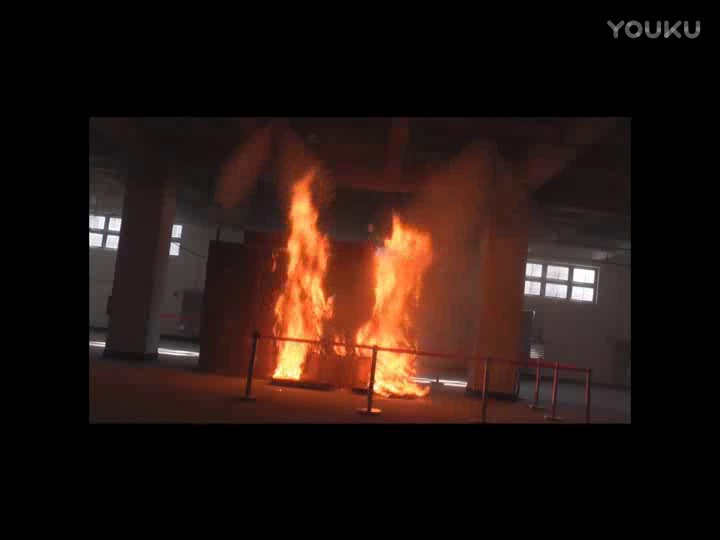fire: (270, 163, 335, 380), (359, 213, 429, 396)
